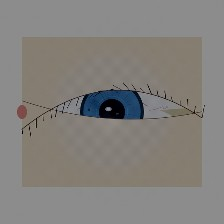pterygium_lesion: (155, 93, 202, 131)
